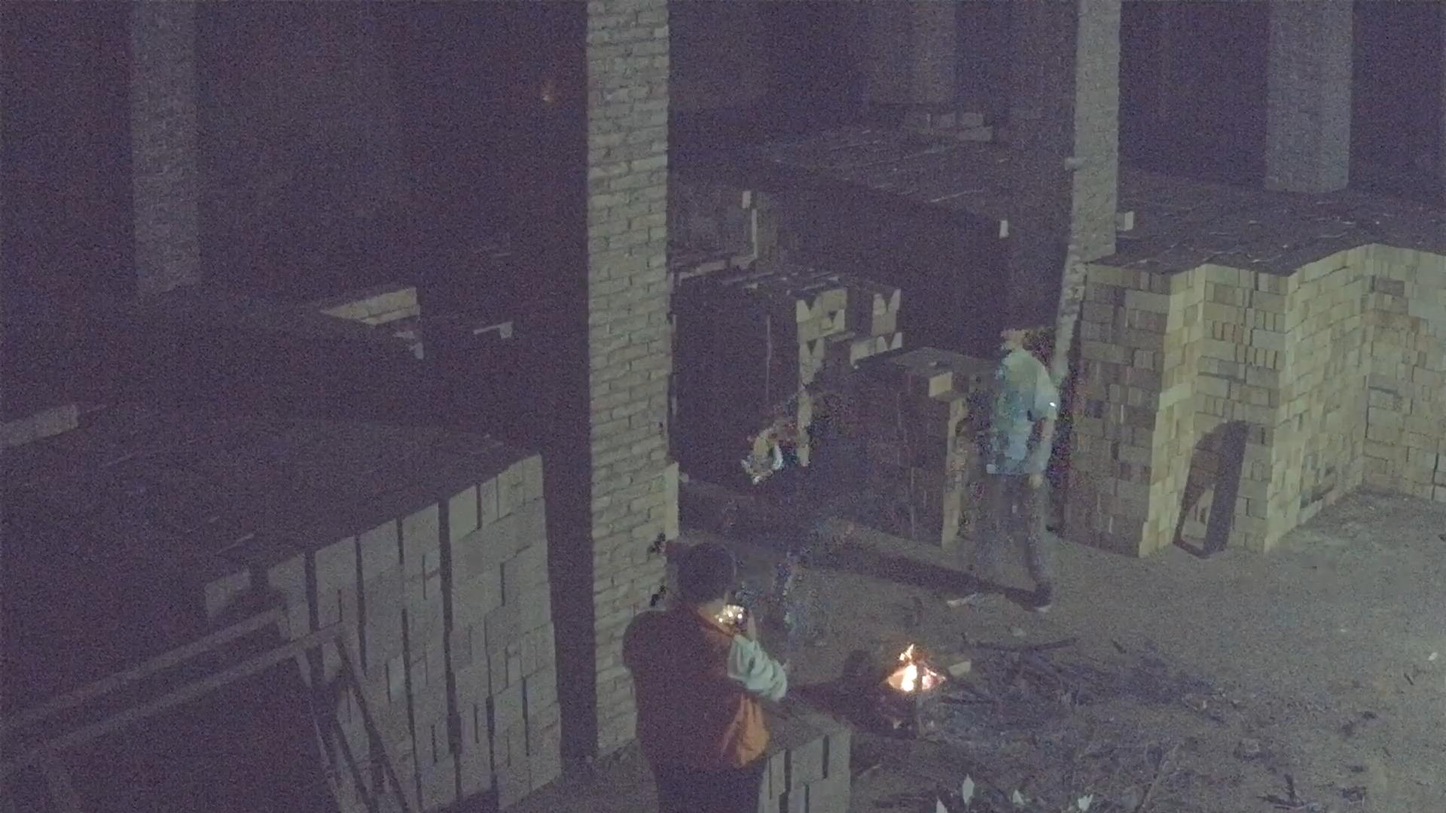fire: (886, 644, 944, 694)
